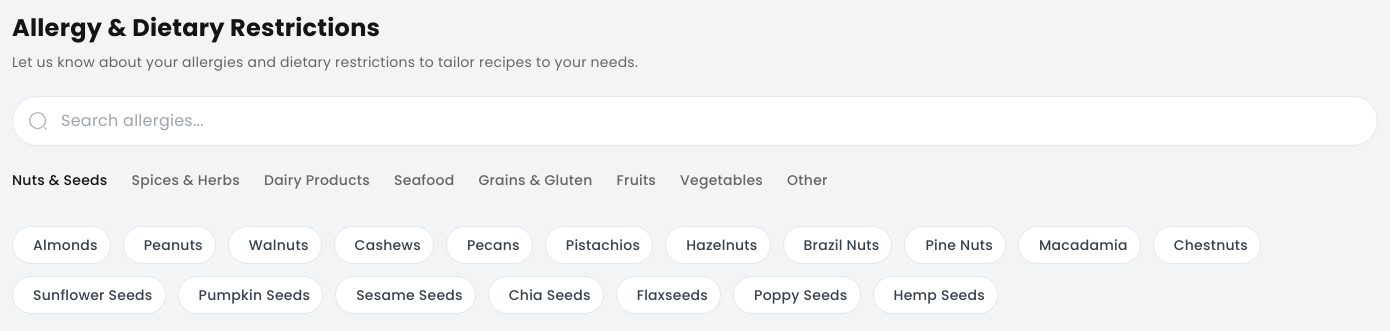
Test: AllergiesPage › Search Functionality › filters items based on search query
In the field with placeholder "Search allergies...": (695,121) x1=12 y1=96 x2=1378 y2=146, type "almond"
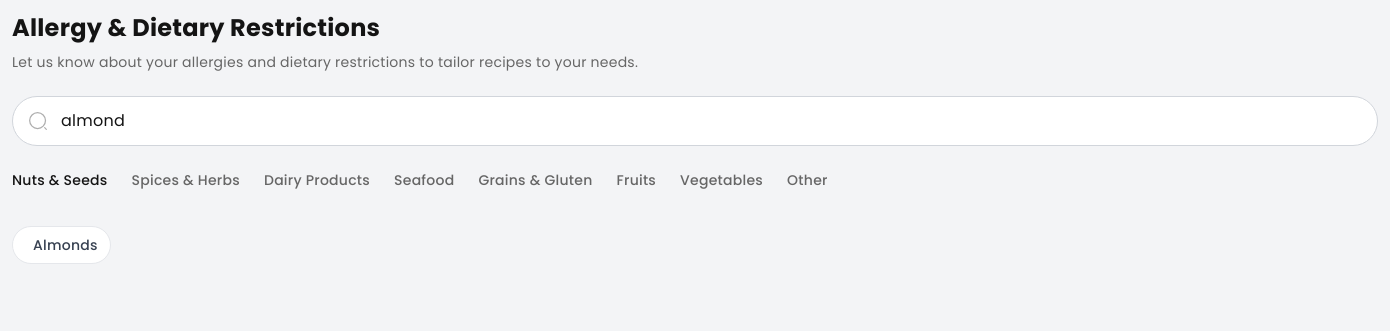
Expected: the button "Almonds" is shown, x1=12 y1=226 x2=111 y2=264
Expected: the button "Peanuts" is gone
